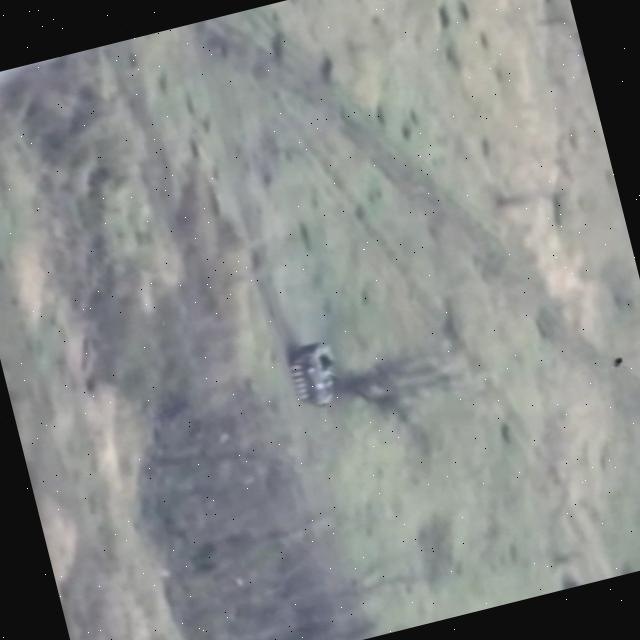AIFV: (284, 337, 352, 414)
